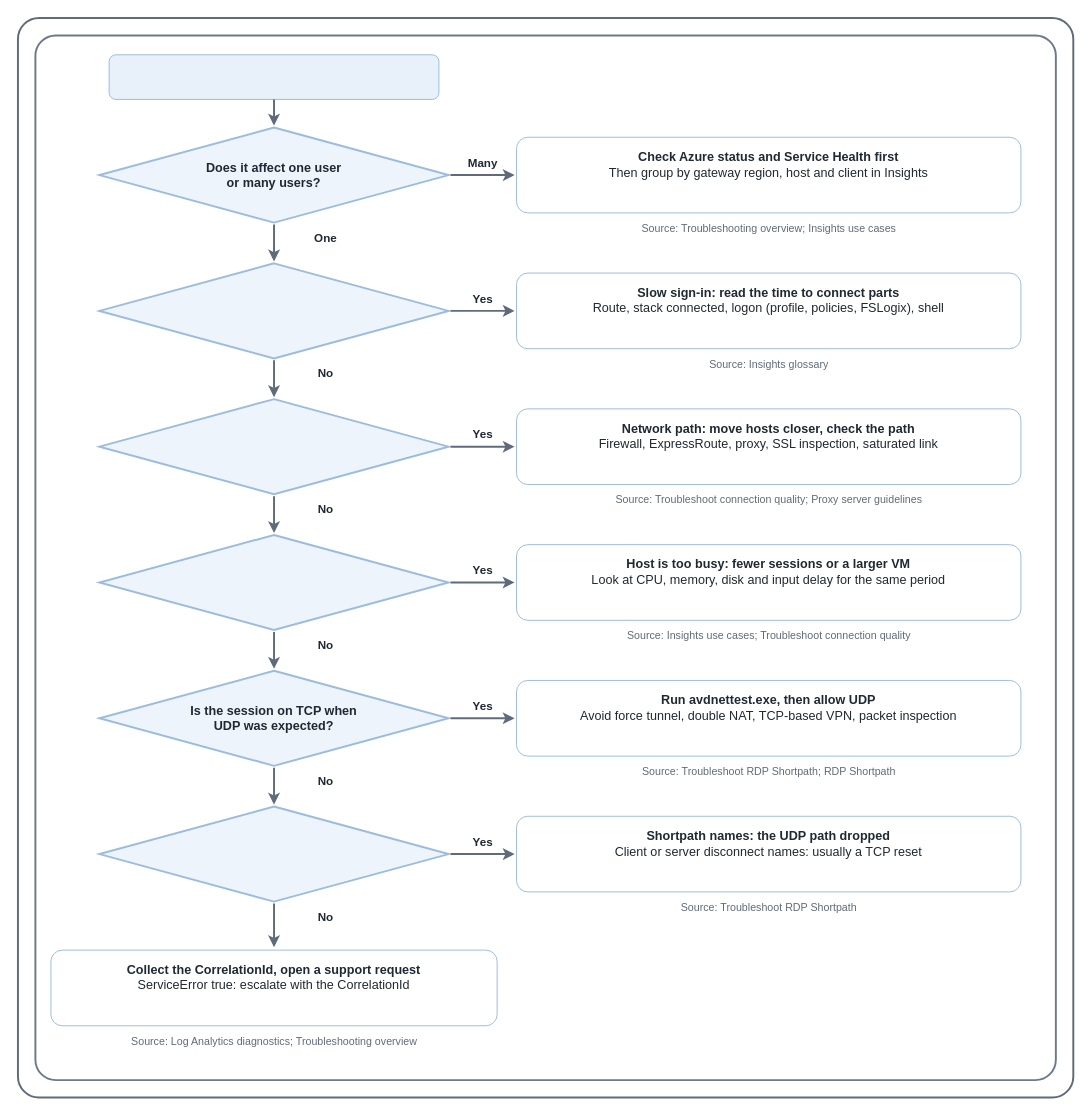
The diagram is 1090 pixels wide and 1115 high, and some of its shapes have lost their labels. The box of each missing label's shape, as (x1, y1, x2, y2) in pixels:
Do errors name a Shortpath, client or server disconnect?: (98, 805, 449, 902)
Does it happen only while signing in?: (98, 262, 449, 359)
Is input delay, CPU or memory high on the session host?: (98, 534, 449, 630)
Is round-trip time high?: (98, 398, 449, 495)
Session drops, lags or is slow: (108, 54, 439, 99)
